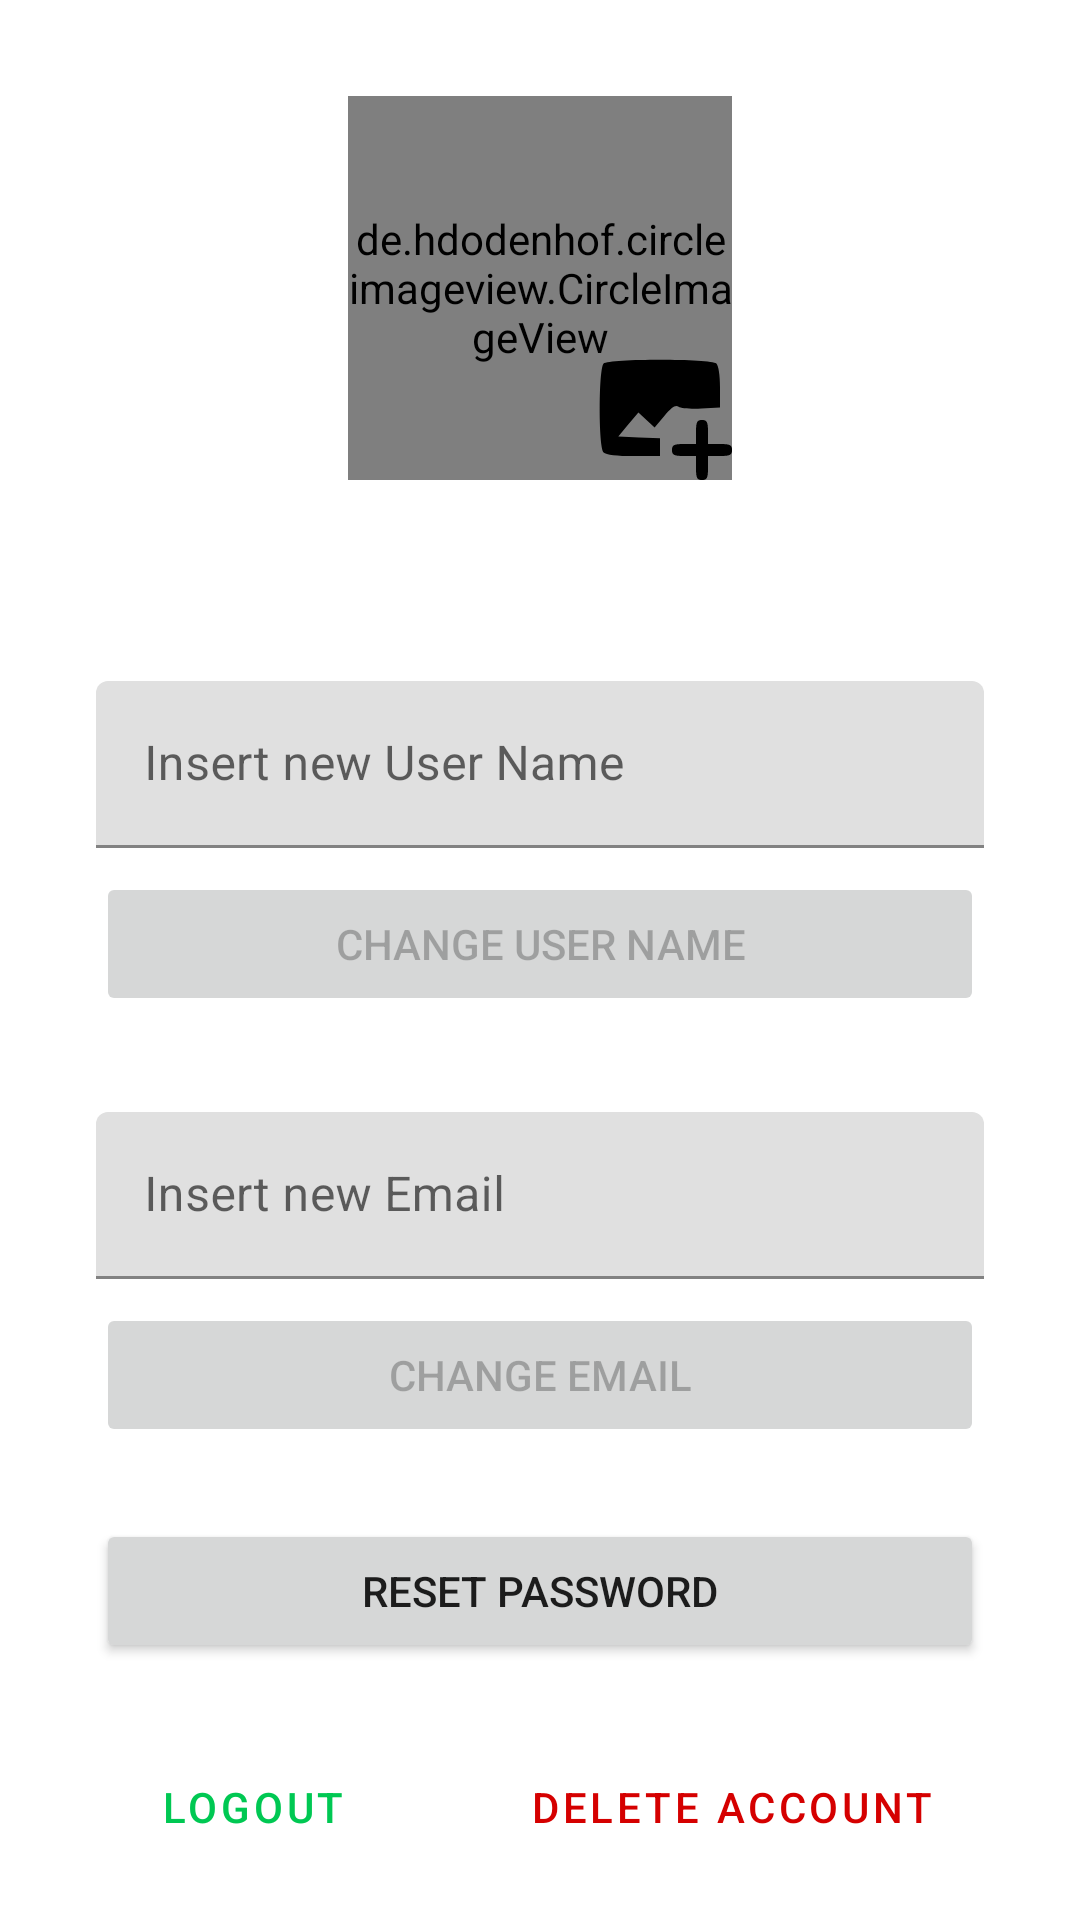

Icons on this 1080w x 1920h Android screen, each with its box as (x1, y1, x2, y2):
add: (599, 359, 720, 456)
